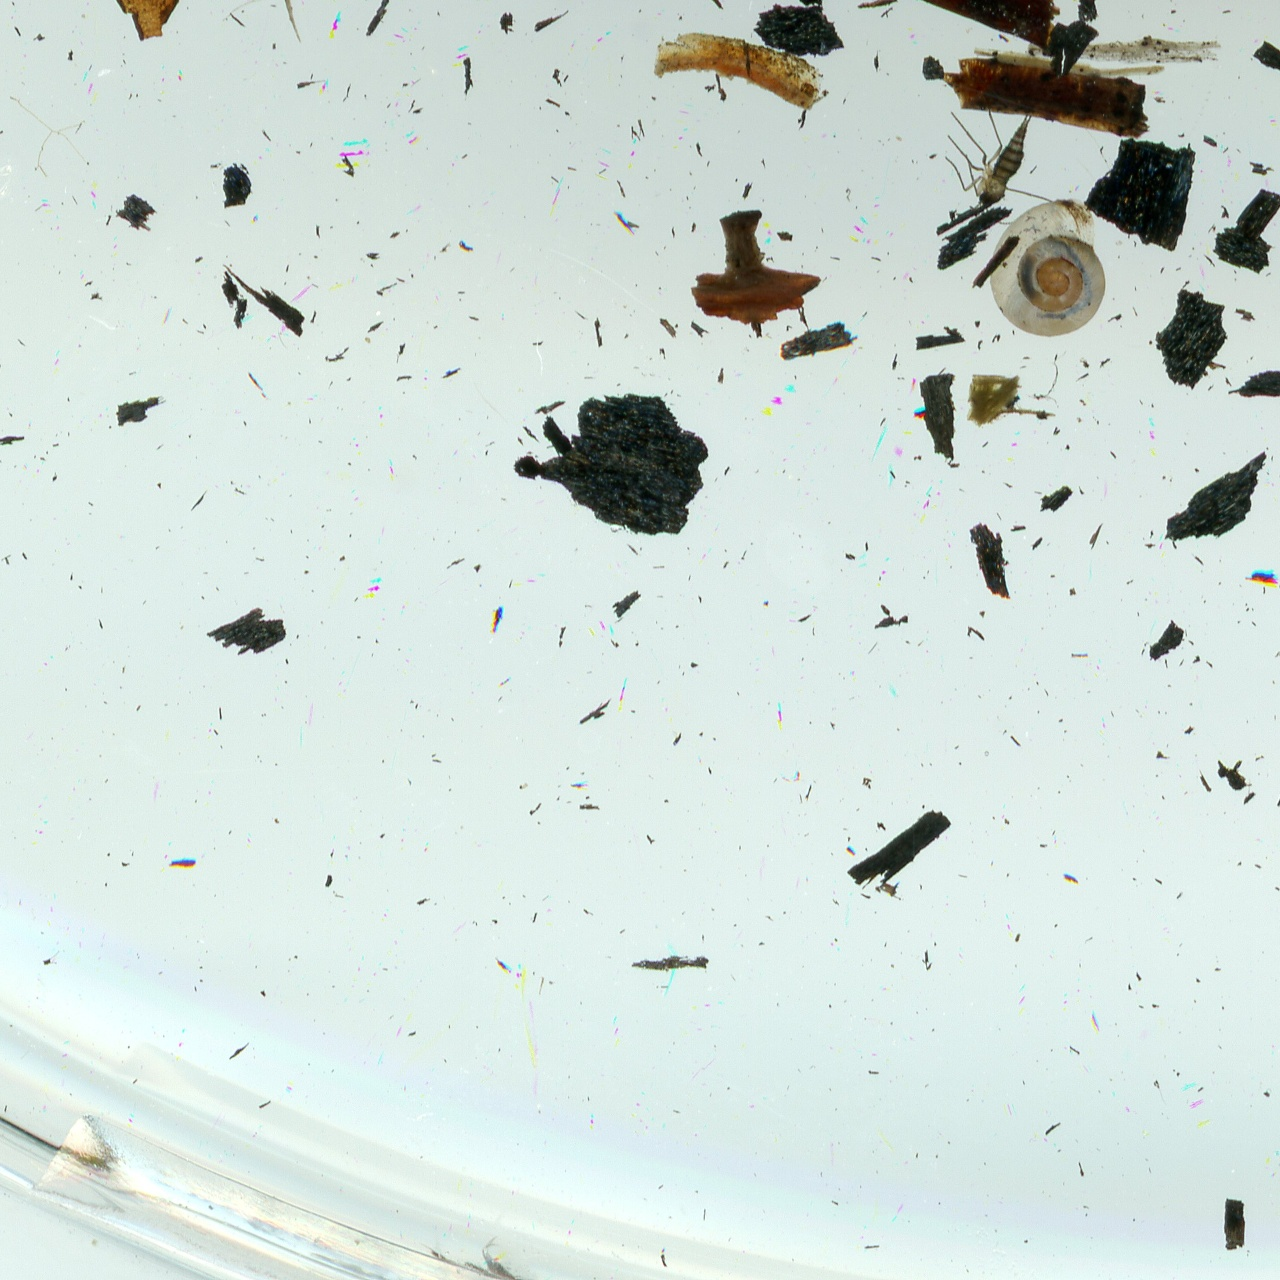arthropod: (925, 90, 1080, 240), (986, 195, 1111, 339), (475, 1234, 523, 1280)
